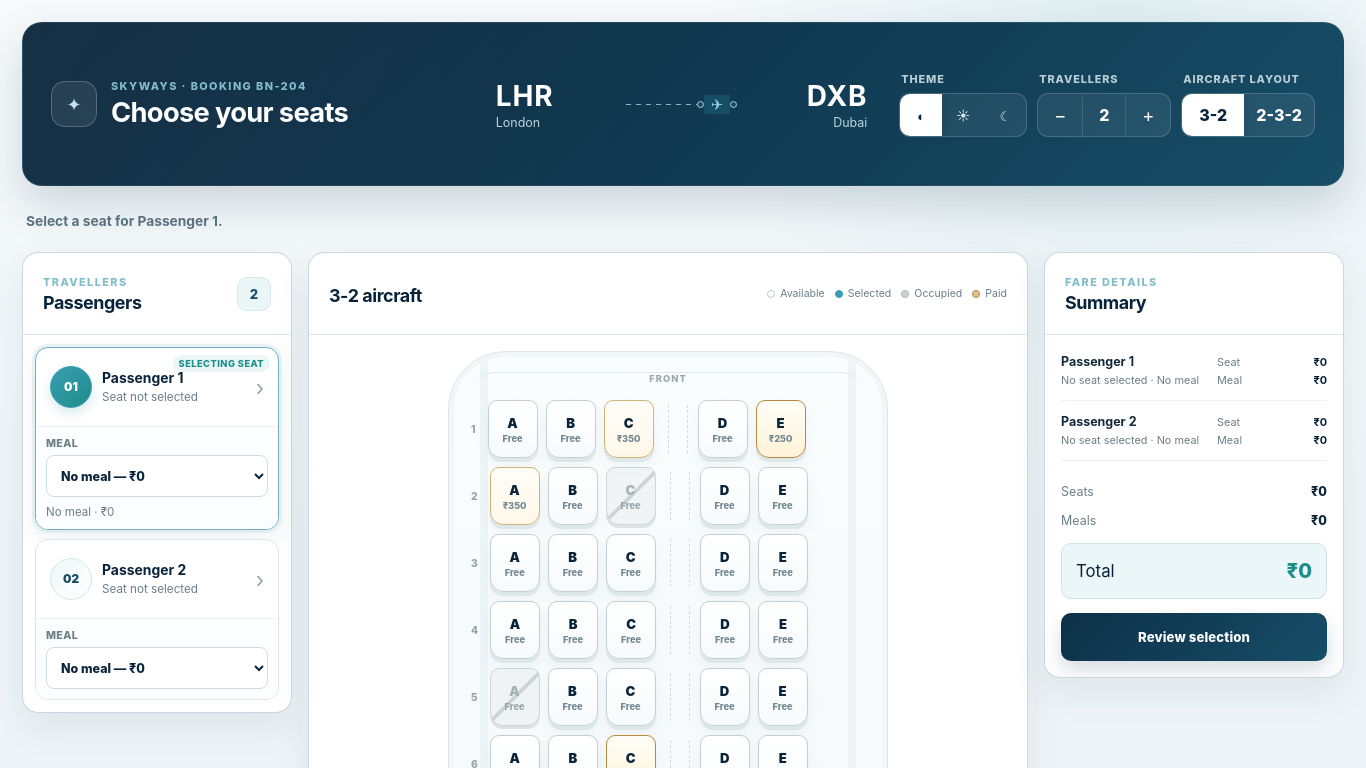
App › changes passenger count and keeps the passenger list usable
Click the button named "Add one passenger": (1148, 114) [1126, 94, 1170, 136]
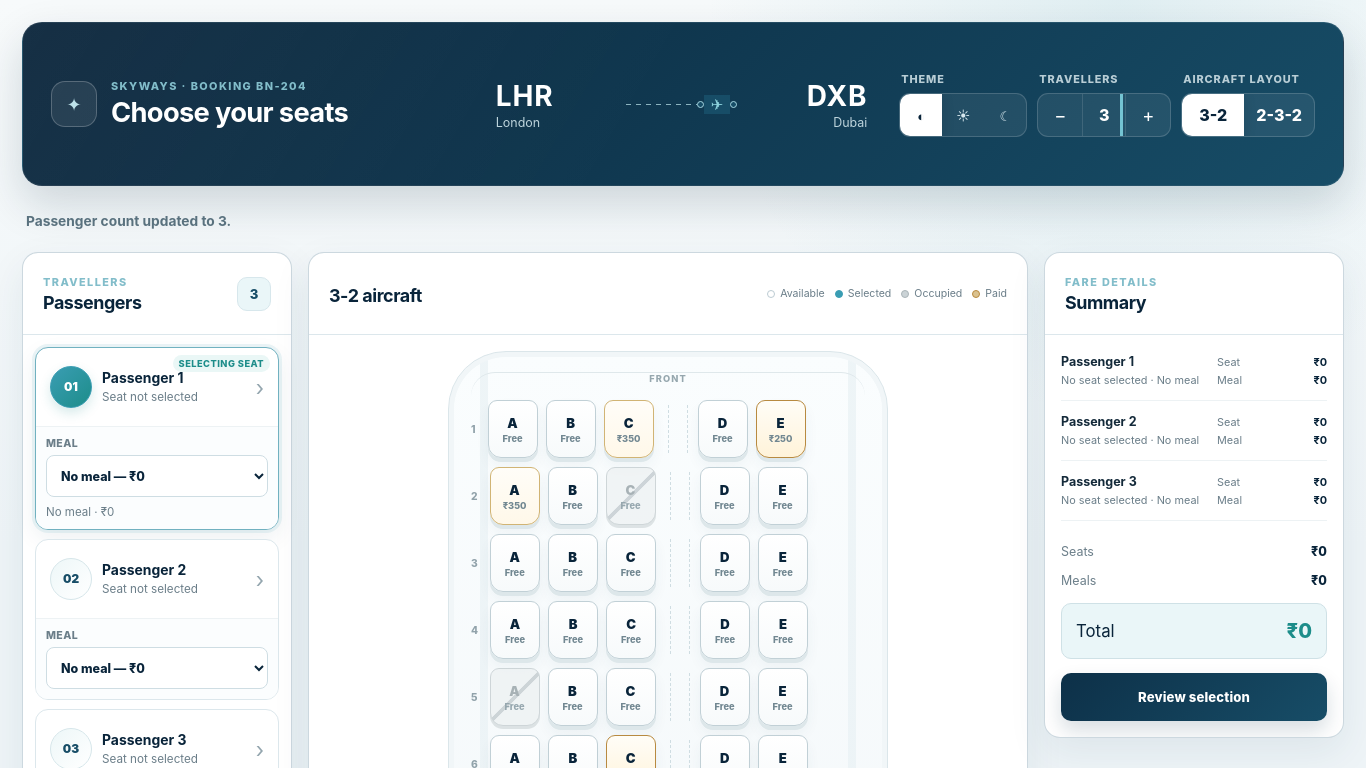
Check: the 2nd text "Passenger 3" is shown, box [102, 732, 186, 748]
Click the button named "Remove one passenger": (1060, 114) [1038, 94, 1082, 136]
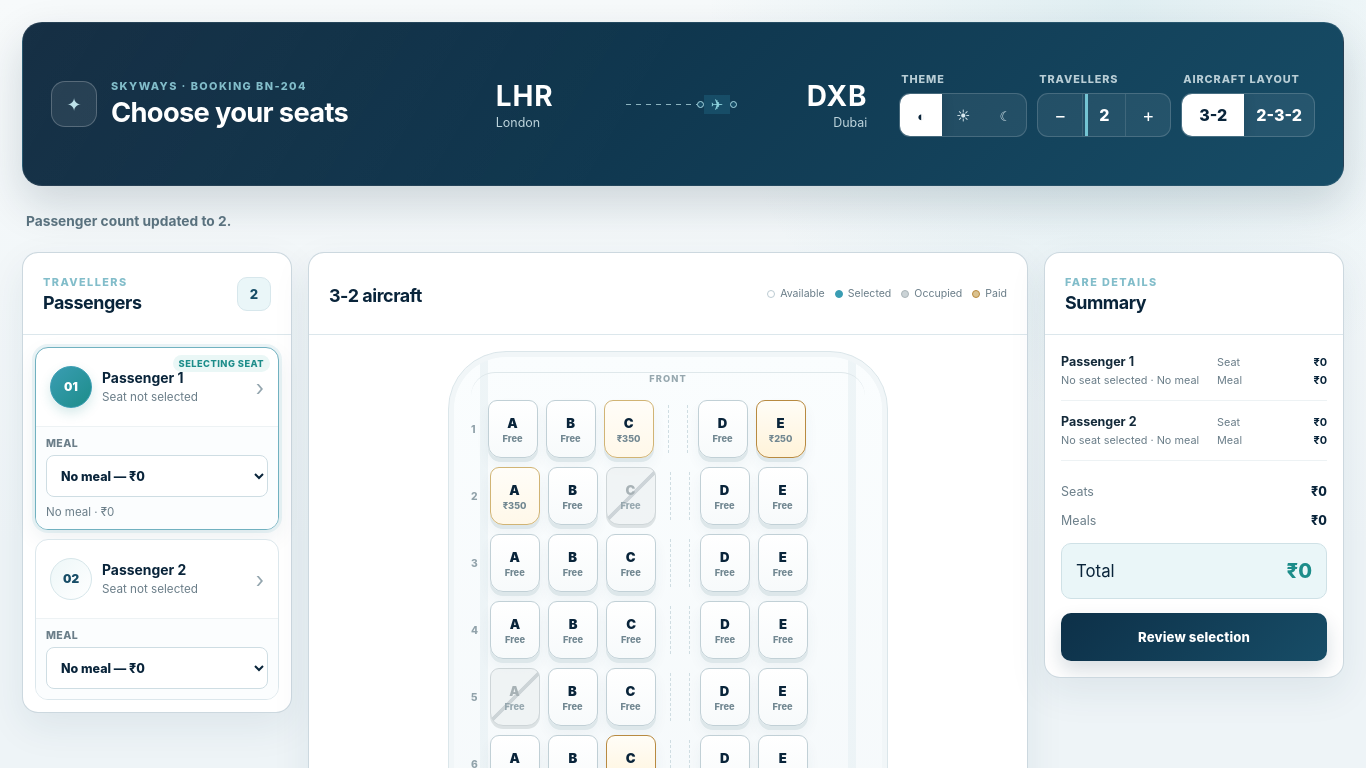
Check: the button "Passenger 3" is gone
